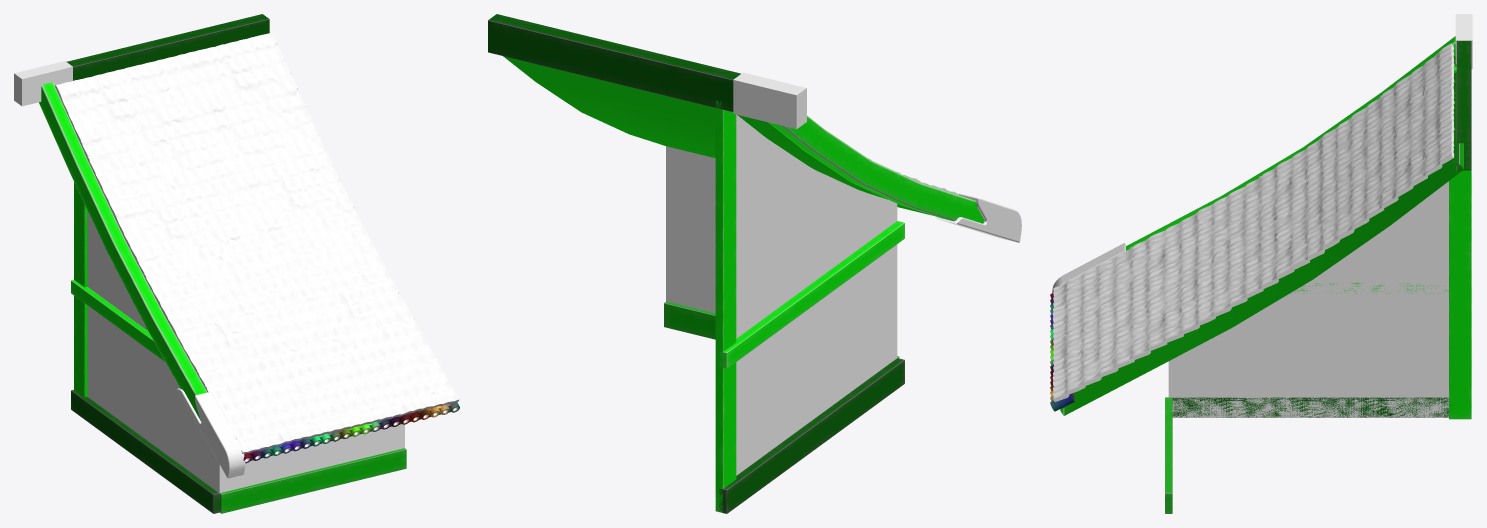
Rendered from roof_300_01_left.fbx.
3 views of the same model, side by side, from view 1: azimuth 30°, elevation 25°; view 2: azimuth 150°, elevation 25°; view 3: azimuth 270°, elevation 25° (orthographic). The views are drawn at different scales.
Visible parts, largest first — view 1: roof_300_01_left; view 2: roof_300_01_left; view 3: roof_300_01_left.
Part boxes in pixels (x1,y1,x2,y2): roof_300_01_left: [14, 14, 459, 513]; roof_300_01_left: [488, 14, 1021, 513]; roof_300_01_left: [1050, 14, 1472, 513].
Size of the model in its own units: 4.02 by 5.41 by 5.58.
